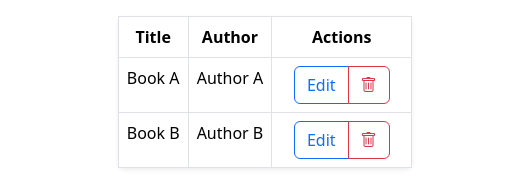
Test case: BookTable › cancels edit mode when Cancel is clicked
Click the button with aria-label "editButton": [321, 85] box [294, 66, 348, 104]
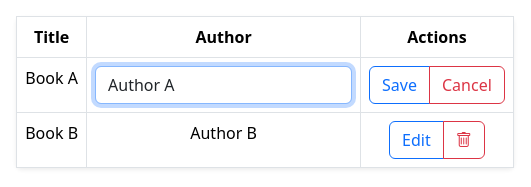
Replace the text in the field showing "Author A" with "New Author": [224, 85] box [95, 66, 352, 104]
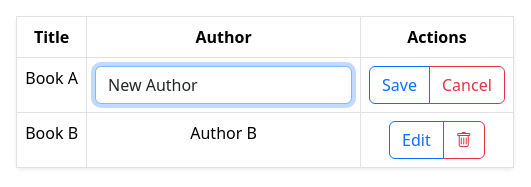
Click the button with aria-label "cancelButton": [467, 85] box [429, 66, 505, 104]
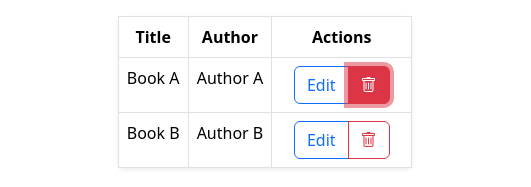
expect the field showing "New Author" is not shown: met
expect the text "Author A" is shown: met, box [188, 58, 272, 112]
